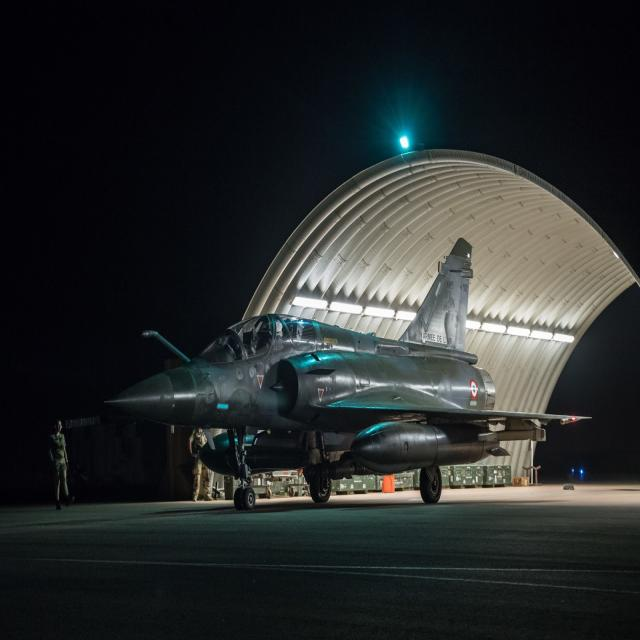MIL_Plane: (104, 237, 593, 510)
